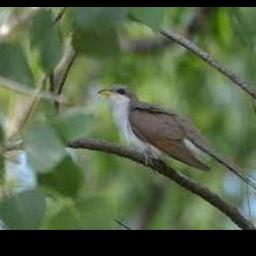Cuckoo: (97, 83, 256, 192)
